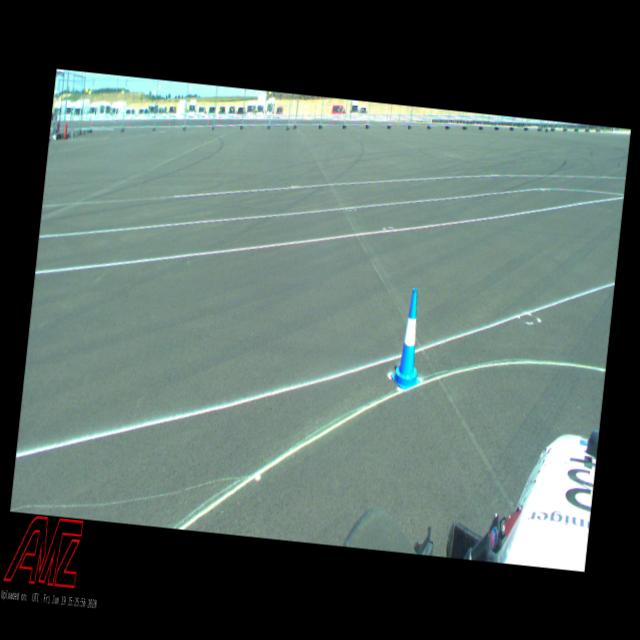blue_cone: (389, 286, 428, 391)
